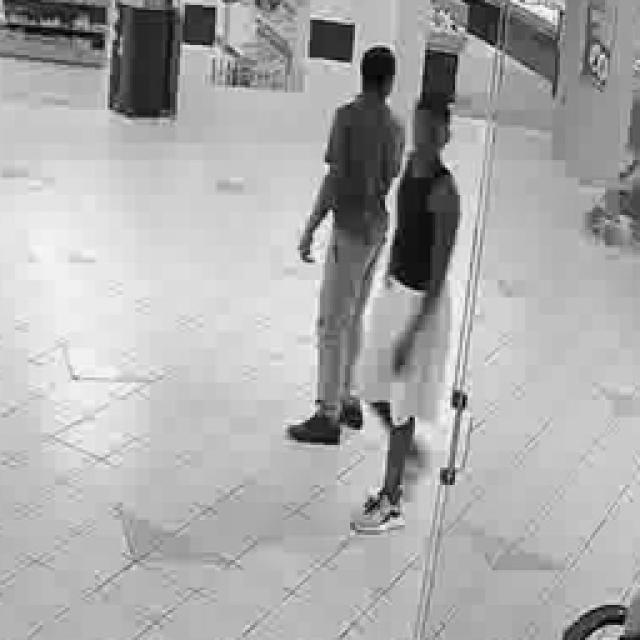Invader: (352, 91, 471, 532), (285, 43, 405, 445)
